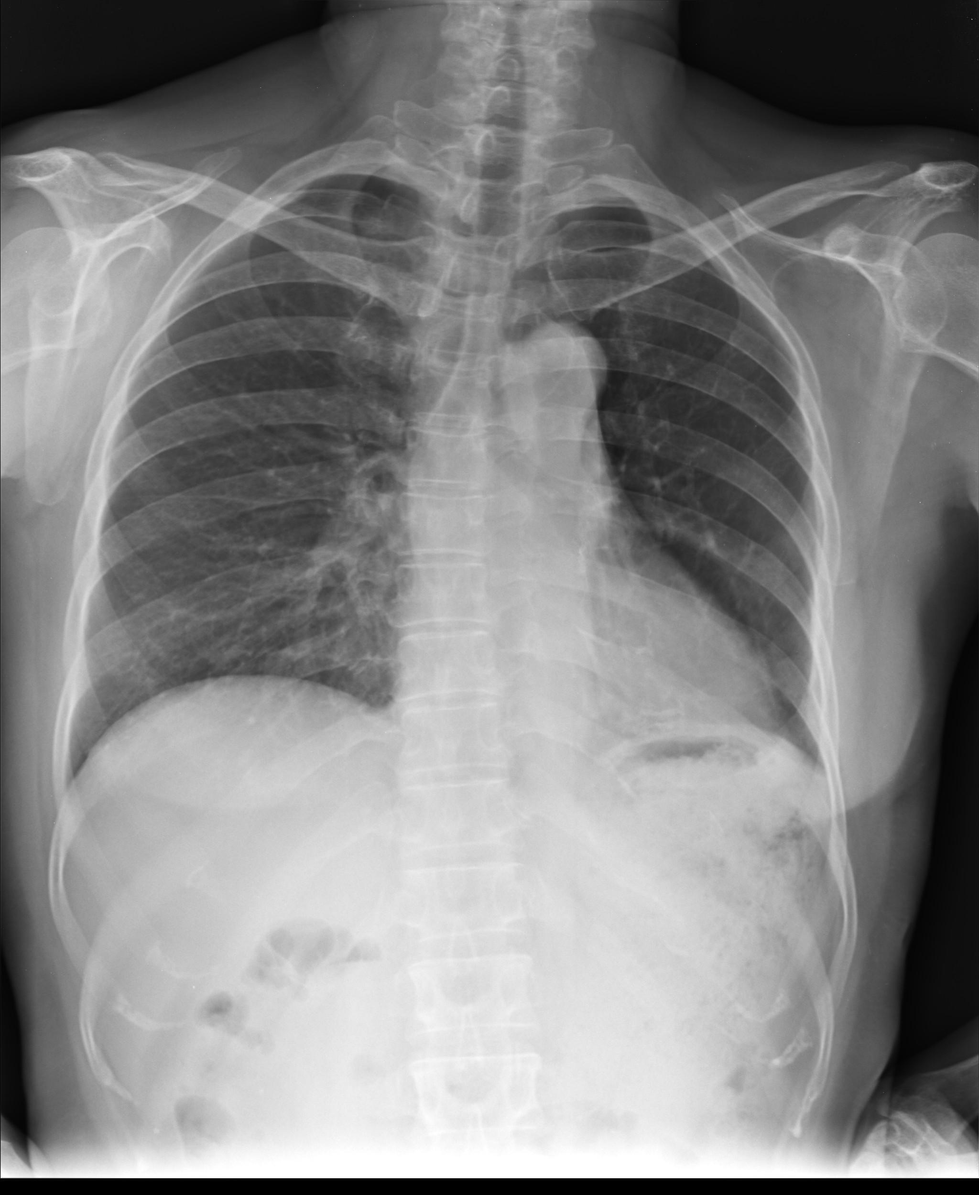Aortic enlargement: (493, 313, 609, 459)
